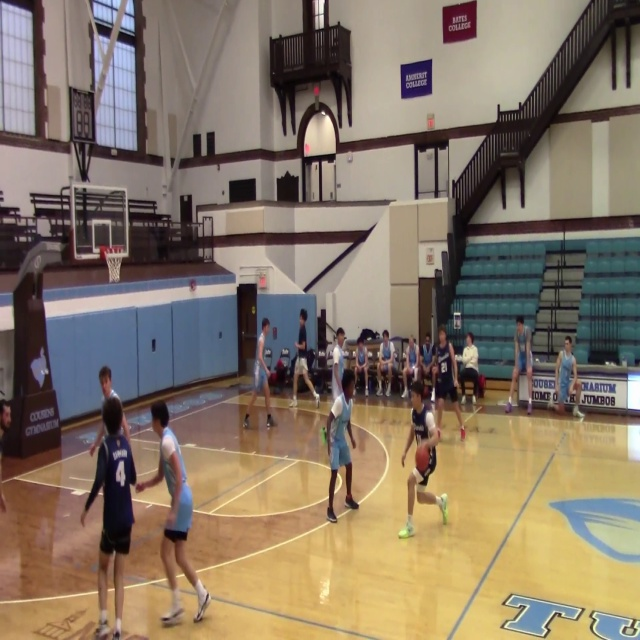Basketball: (414, 442, 431, 471)
